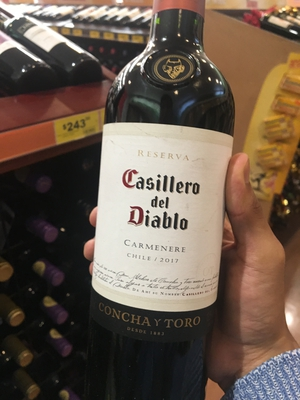casillero del diablo carmenere: (86, 19, 270, 400)
